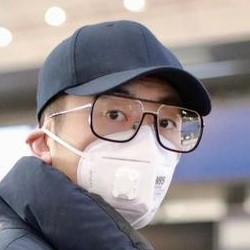mask: (65, 124, 181, 232)
